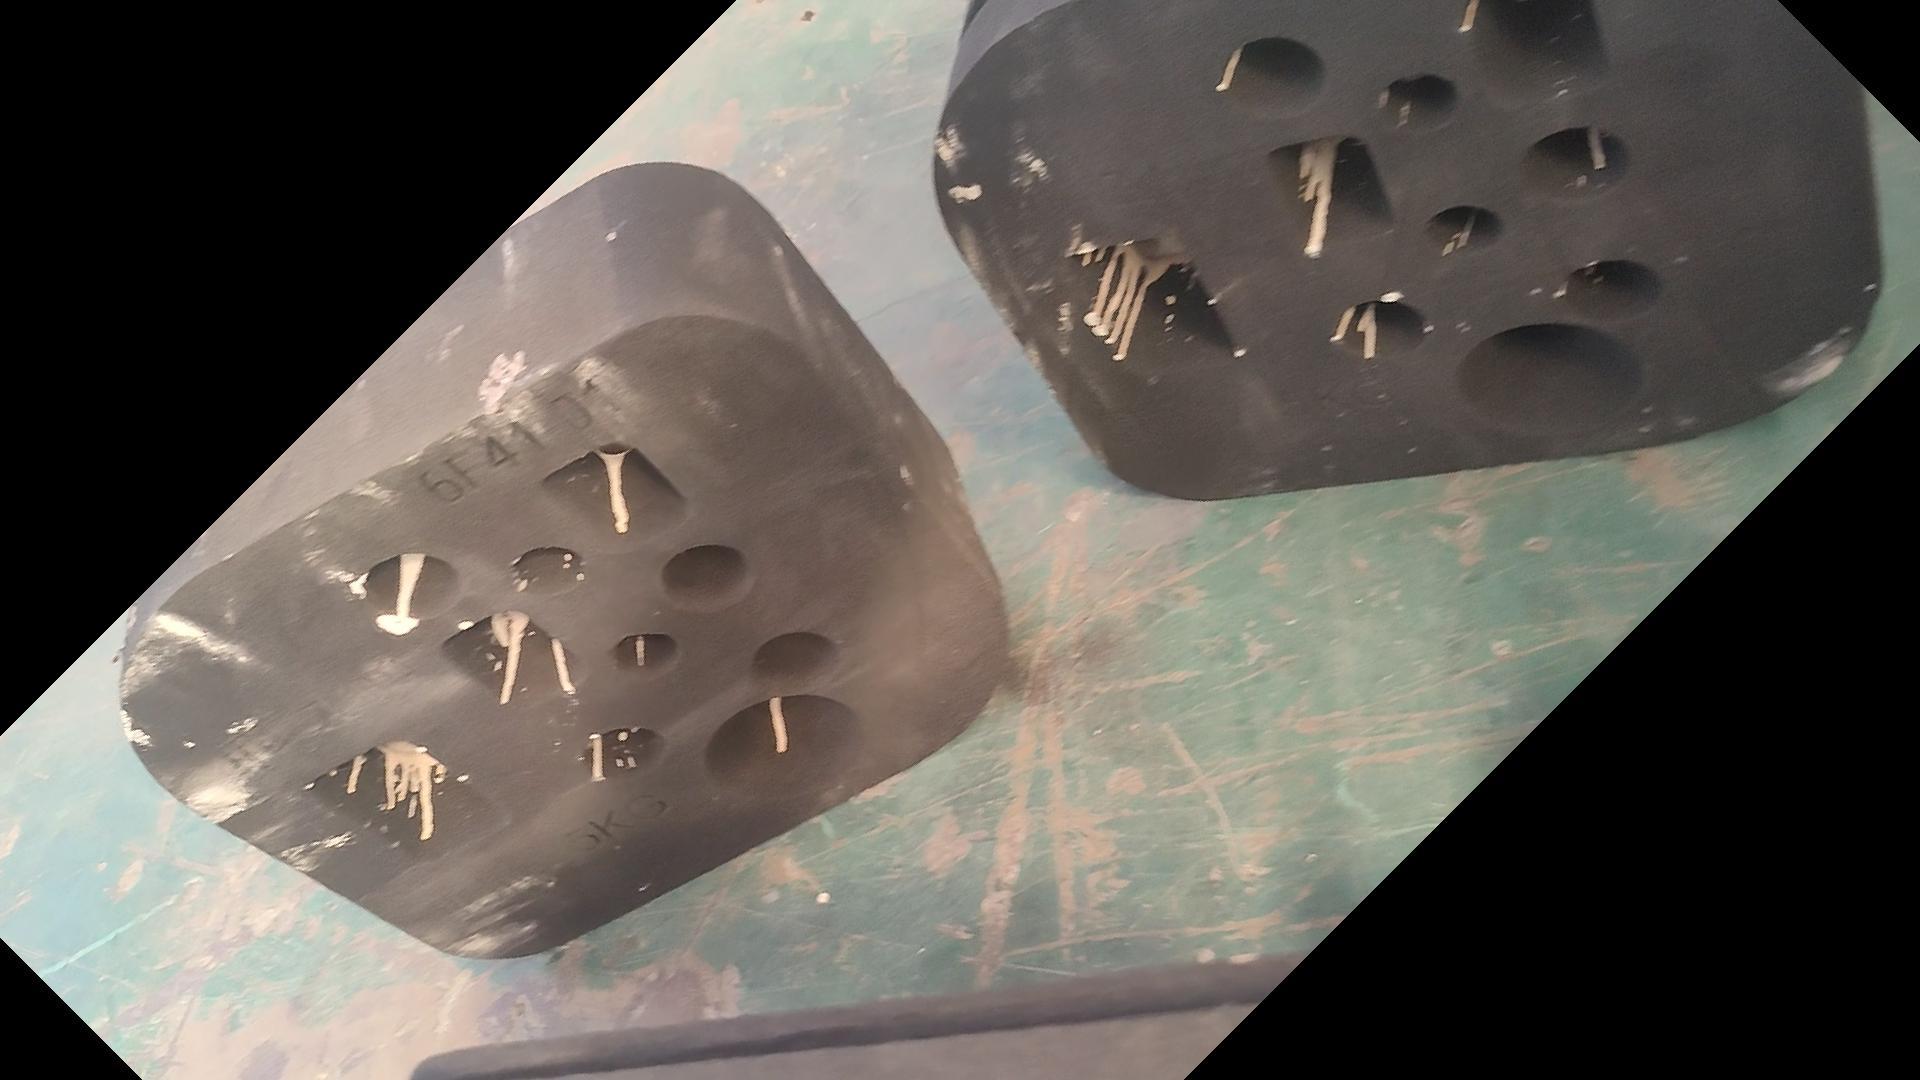pouring hole: (1452, 323, 1644, 436), (702, 696, 862, 800)
